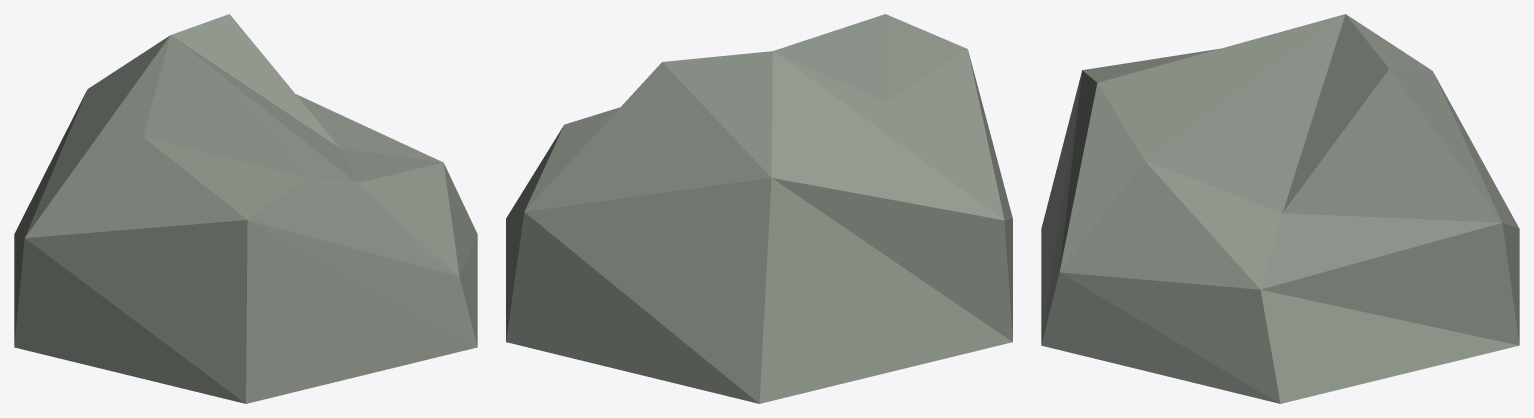
File: Rock_Dark_2.fbx
The picture shows the model from 3 angles, left to right: view 1: azimuth 30°, elevation 25°; view 2: azimuth 150°, elevation 25°; view 3: azimuth 270°, elevation 25°; orthographic projection. The views are drawn at different scales.
Parts seen in each view (by area): view 1: Rock_Dark_2; view 2: Rock_Dark_2; view 3: Rock_Dark_2.
Boxes of the visible parts, x1,y1,x2,y2 form: Rock_Dark_2: [14, 14, 477, 403]; Rock_Dark_2: [506, 14, 1012, 403]; Rock_Dark_2: [1041, 14, 1519, 403].
Size of the model in its own units: 1.46 by 0.7304 by 1.26.
